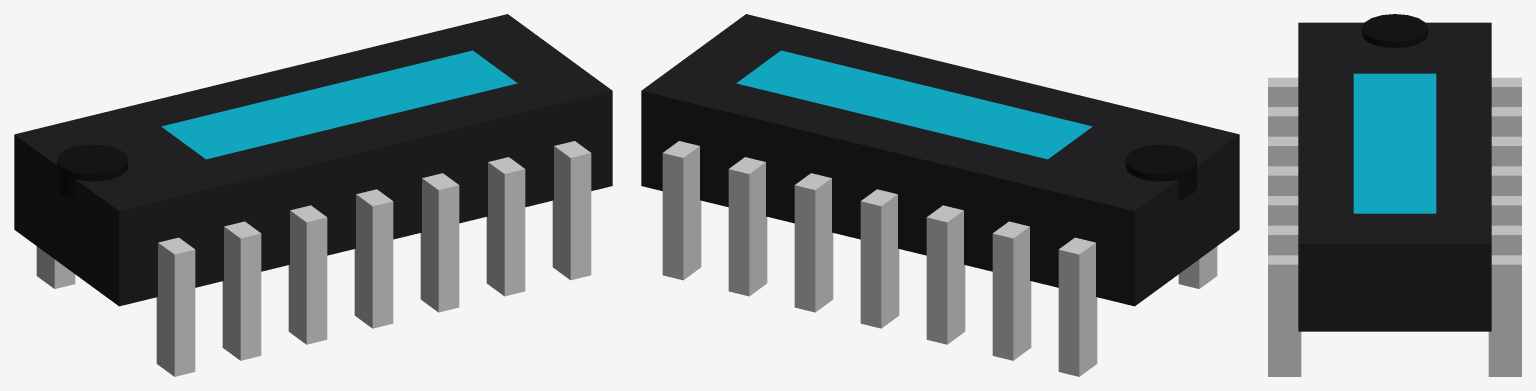
3 renders of one model, left to right at view 1: azimuth 30°, elevation 25°; view 2: azimuth 150°, elevation 25°; view 3: azimuth 270°, elevation 25°, orthographic. The views are drawn at different scales.
Bounding box in the file's own units: 0.192 × 0.0625 × 0.092.
